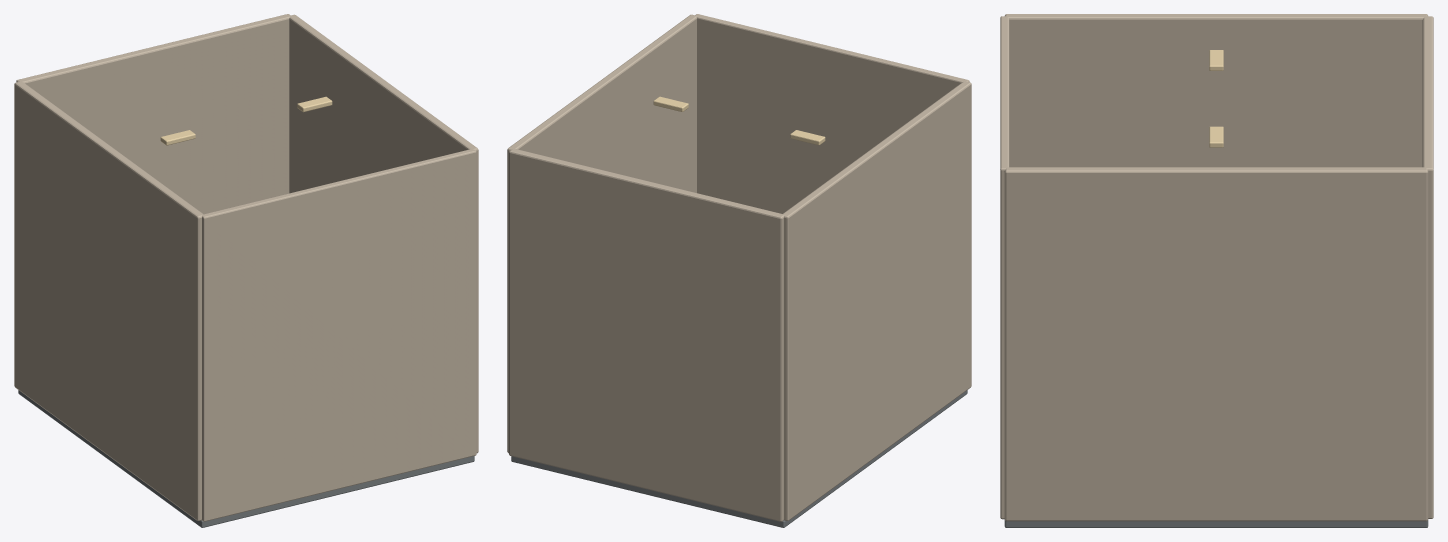
The model's file is apartment_stairwell_a.glb.
3 views of the same model, side by side, from view 1: azimuth 30°, elevation 25°; view 2: azimuth 150°, elevation 25°; view 3: azimuth 270°, elevation 25° (orthographic). The views are drawn at different scales.
Parts seen in each view (by area): view 1: CUTAWAY_FRONT, SET_Wall_Left, SET_Wall_Back, SET_Wall_Right, SET_Floor; view 2: SET_Wall_Back, SET_Wall_Left, CUTAWAY_FRONT, SET_Wall_Right, SET_Floor; view 3: SET_Wall_Right, SET_Wall_Left, SET_Wall_Back, CUTAWAY_FRONT, SET_Floor.
Boxes of the visible parts, left/top/right/bottom form: CUTAWAY_FRONT: left=202, top=149, right=476, bottom=521; SET_Wall_Left: left=14, top=81, right=203, bottom=520; SET_Wall_Back: left=16, top=14, right=290, bottom=214; SET_Wall_Right: left=289, top=14, right=478, bottom=453; SET_Floor: left=18, top=390, right=474, bottom=527; SET_Wall_Back: left=509, top=149, right=783, bottom=521; SET_Wall_Left: left=783, top=81, right=971, bottom=520; CUTAWAY_FRONT: left=695, top=14, right=969, bottom=213; SET_Wall_Right: left=507, top=14, right=696, bottom=453; SET_Floor: left=511, top=390, right=967, bottom=527; SET_Wall_Right: left=1004, top=167, right=1428, bottom=521; SET_Wall_Left: left=1005, top=14, right=1427, bottom=167; SET_Wall_Back: left=1422, top=16, right=1433, bottom=518; CUTAWAY_FRONT: left=1000, top=16, right=1009, bottom=519; SET_Floor: left=1004, top=520, right=1428, bottom=527.
Size of what is drawn, in the model's own units: 6.18 by 6.56 by 7.17.
